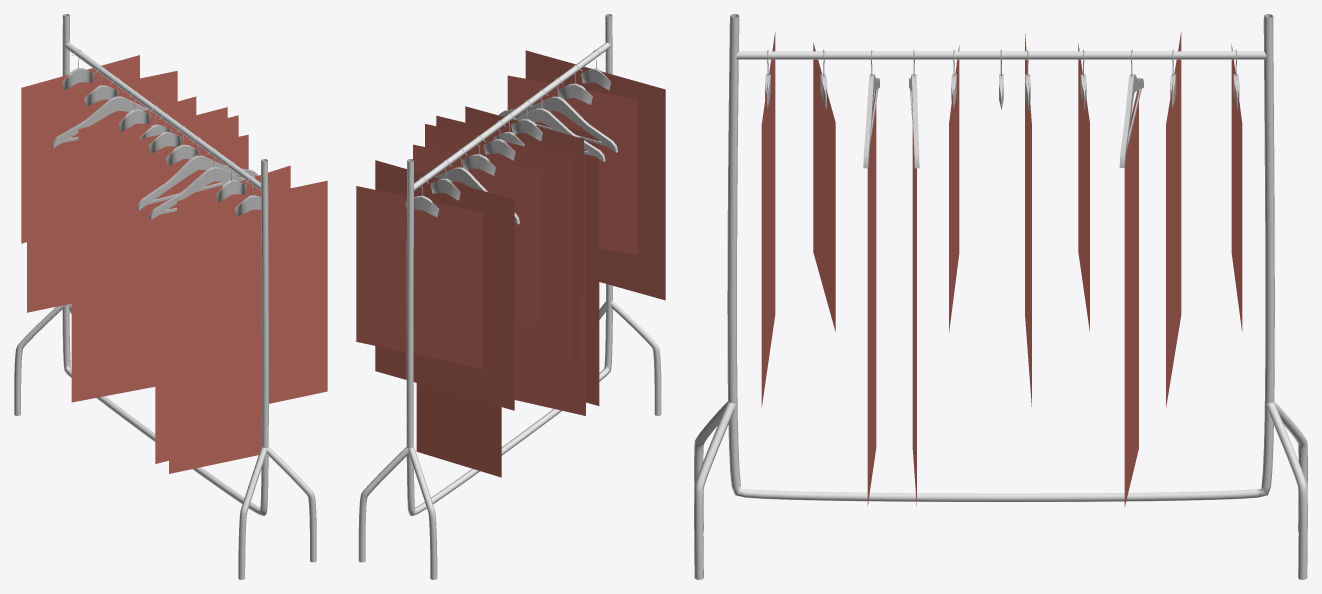
File: ClothesRack_SM.fbx
3 views of the same model, side by side, from view 1: azimuth 30°, elevation 25°; view 2: azimuth 150°, elevation 25°; view 3: azimuth 270°, elevation 25° (orthographic). The views are drawn at different scales.
Visible parts, largest first — view 1: Cube.007, Cube.011, Cube.002, Cube.013, Cube.003, Cube.005, Cube.004, BezierCurve, Cube.008, Cube.012, Cube.009, Cube.006 (+4 smaller); view 2: Cube.012, Cube.011, Cube.008, Cube.007, Cube.006, Cube.005, Cube.009, Cube.013, Cube.004, BezierCurve, Cube.002, Cube.003 (+4 smaller); view 3: BezierCurve, Cube.005, Cube.006, Cylinder, Cube.011, Cube.007, Cube.013, Cube.009, Cube.012, Cube.003, Cube.004, Cube.008 (+2 smaller).
Boxes of the visible parts, <box> form: Cube.007: <box>177,176,327,422</box>; Cube.011: <box>27,66,177,312</box>; Cube.002: <box>93,113,238,361</box>; Cube.013: <box>149,148,261,473</box>; Cube.003: <box>122,126,248,317</box>; Cube.005: <box>51,77,155,402</box>; Cube.004: <box>136,137,258,463</box>; BezierCurve: <box>62,14,268,515</box>; Cube.008: <box>85,106,227,355</box>; Cube.012: <box>21,49,139,243</box>; Cube.009: <box>78,91,196,285</box>; Cube.006: <box>177,161,290,356</box>; Cube.012: <box>356,177,482,368</box>; Cube.011: <box>375,160,514,410</box>; Cube.008: <box>425,120,572,368</box>; Cube.007: <box>525,50,665,300</box>; Cube.006: <box>507,65,637,254</box>; Cube.005: <box>416,148,519,477</box>; Cube.009: <box>413,135,539,326</box>; Cube.013: <box>498,78,617,405</box>; Cube.004: <box>513,89,605,415</box>; BezierCurve: <box>406,14,612,515</box>; Cube.002: <box>436,113,581,361</box>; Cube.003: <box>465,100,583,294</box>; BezierCurve: <box>727,14,1274,501</box>; Cube.005: <box>1119,50,1143,506</box>; Cube.006: <box>813,43,835,331</box>; Cylinder: <box>736,51,1266,59</box>; Cube.011: <box>1166,32,1181,407</box>; Cube.007: <box>761,32,775,407</box>; Cube.013: <box>863,50,879,505</box>; Cube.009: <box>1078,43,1089,331</box>; Cube.012: <box>1231,44,1242,331</box>; Cube.003: <box>949,45,959,332</box>; Cube.004: <box>909,50,919,505</box>; Cube.008: <box>1025,33,1031,406</box>.
Size of the model in its own units: 85.86 by 226 by 233.
